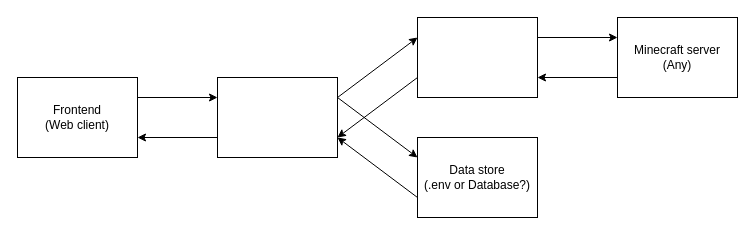
Image size: 755x235. Some labels were removed from this diagram. The shapes that lost their labels are listed below. From the top down, each one's centre as x and y in pixels, then its label:
At (x=477, y=57): "RCON (Connection manager)".
At (x=277, y=117): "Backend (API Server)".
